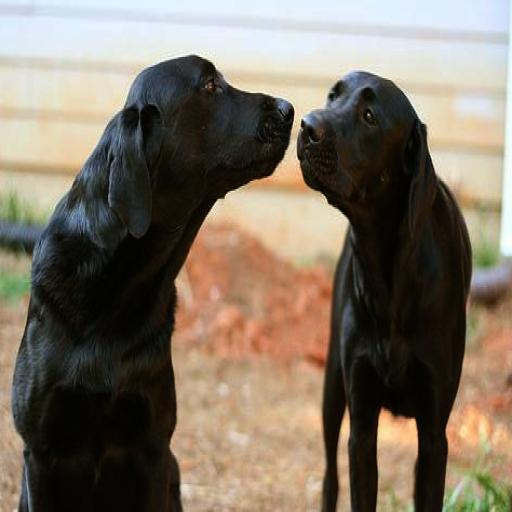dog_face: (121, 38, 294, 240), (299, 52, 438, 232)
